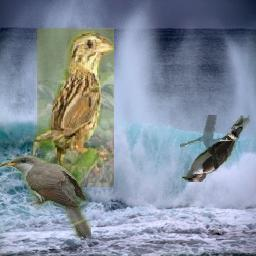Cuckoo: (0, 156, 91, 239), (180, 116, 250, 183)
Sparrow: (32, 29, 115, 188)
